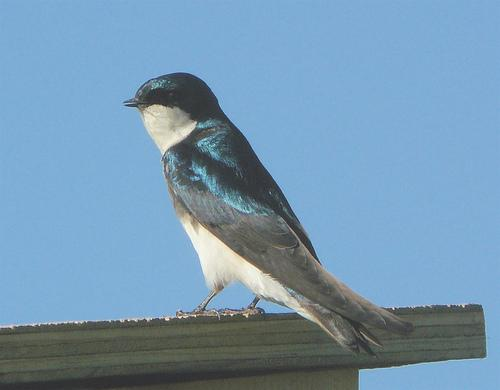Swallow: (121, 70, 420, 360)
